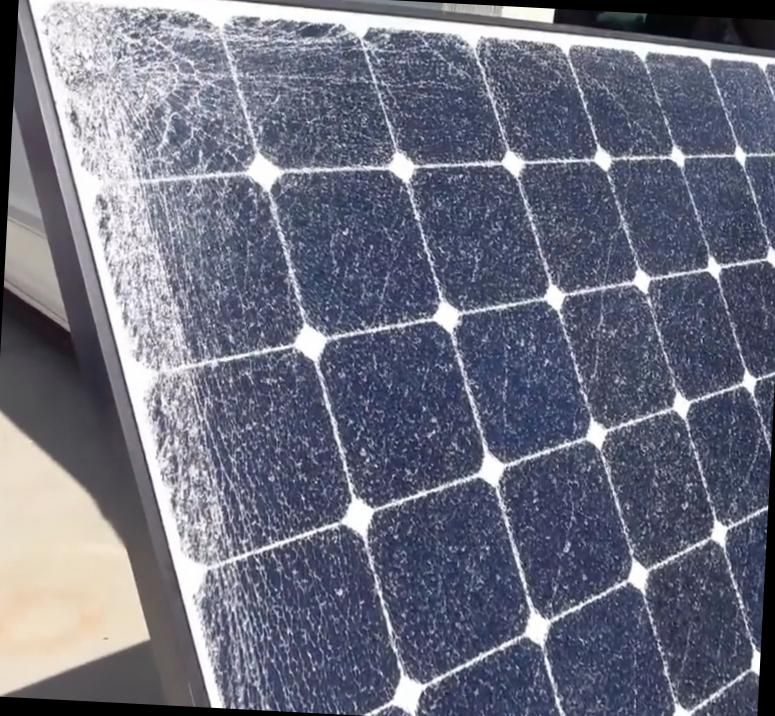Crack: (65, 216, 333, 706), (24, 0, 259, 215)
